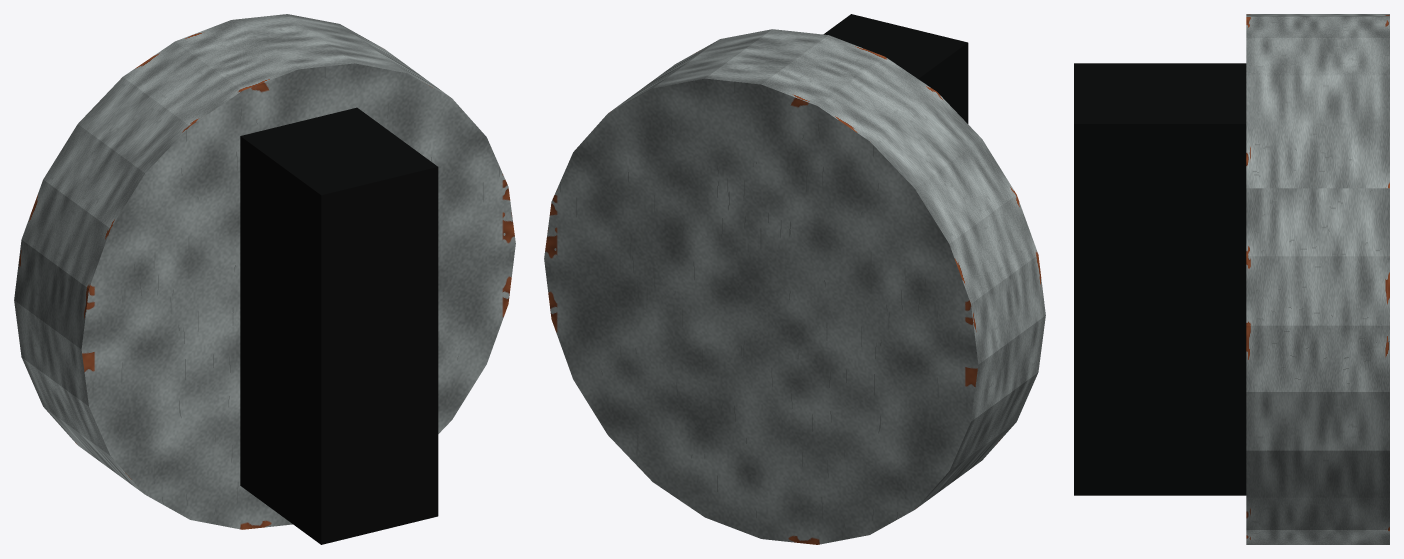
File: Part_ModePivot.obj
The picture shows the model from 3 angles, left to right: view 1: azimuth 30°, elevation 25°; view 2: azimuth 150°, elevation 25°; view 3: azimuth 270°, elevation 25°; orthographic projection. The views are drawn at different scales.
Visible parts, largest first — view 1: ModeRim, ModeKnob; view 2: ModeRim, ModeKnob; view 3: ModeRim, ModeKnob.
Part boxes in pixels (x1,y1,x2,y2): ModeRim: [14, 14, 515, 529]; ModeKnob: [240, 107, 438, 544]; ModeRim: [544, 29, 1045, 544]; ModeKnob: [823, 14, 968, 123]; ModeRim: [1246, 14, 1389, 544]; ModeKnob: [1074, 63, 1246, 495].
Bounding box in the file's own units: 0.13 × 0.13 × 0.077.
Materials: 2 (1 with a texture image).
